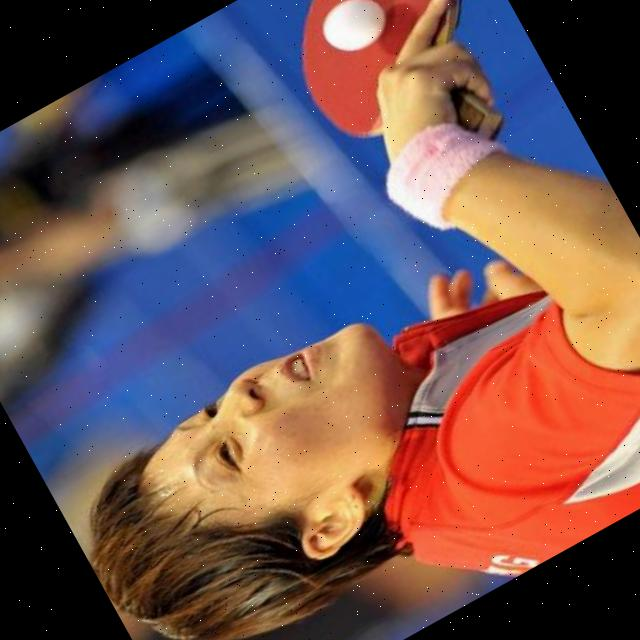ping-pong-ball: (313, 0, 396, 63)
